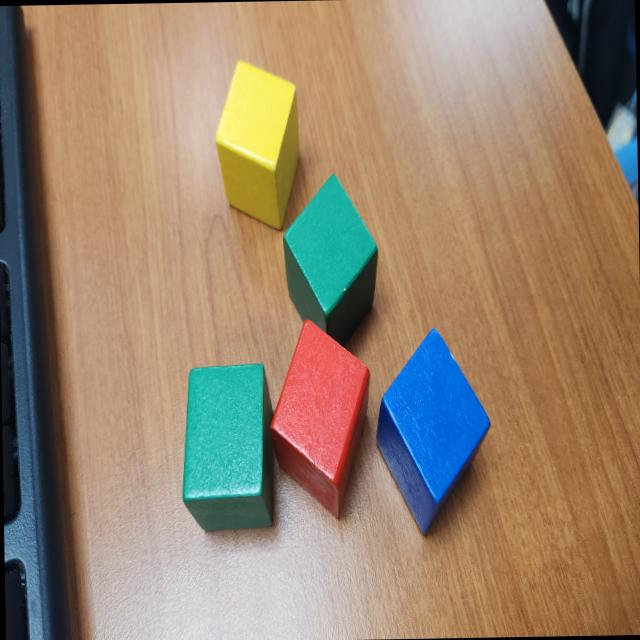blue: (372, 328, 493, 538)
green: (280, 174, 380, 352), (179, 363, 273, 535)
red: (264, 319, 373, 522)
yellow: (214, 60, 301, 233)
